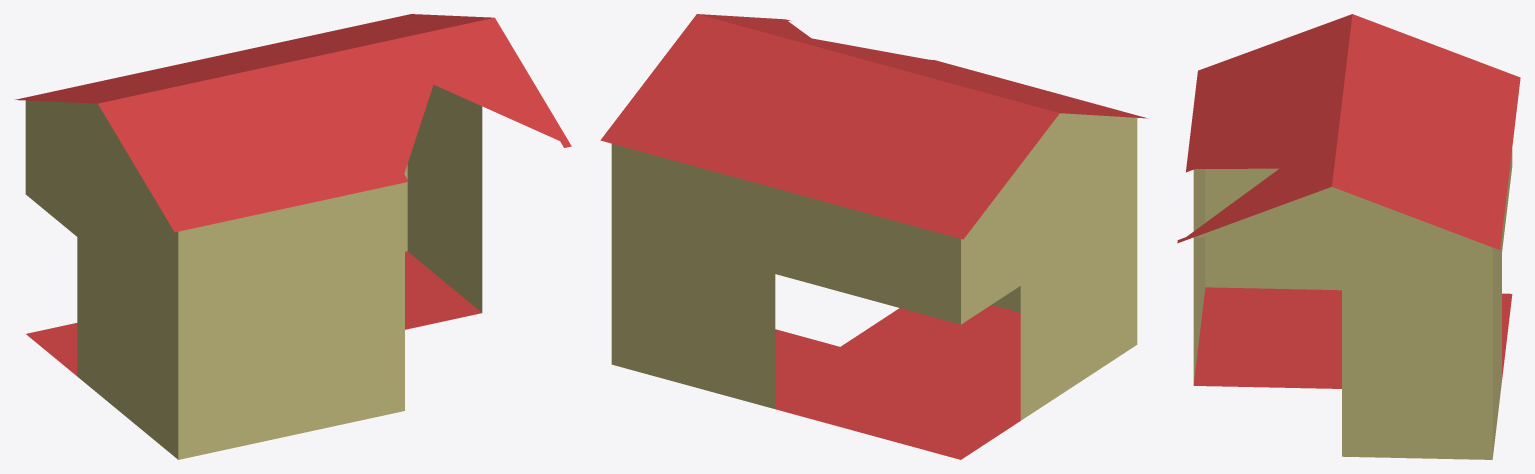
3 views of the same model, side by side, from view 1: azimuth 30°, elevation 25°; view 2: azimuth 150°, elevation 25°; view 3: azimuth 270°, elevation 25° (orthographic). The views are drawn at different scales.
Bounding box in the file's own units: 13.51 × 10.91 × 9.58.
